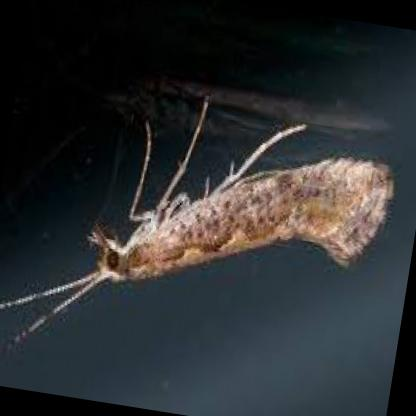plutella: (0, 83, 397, 360)
